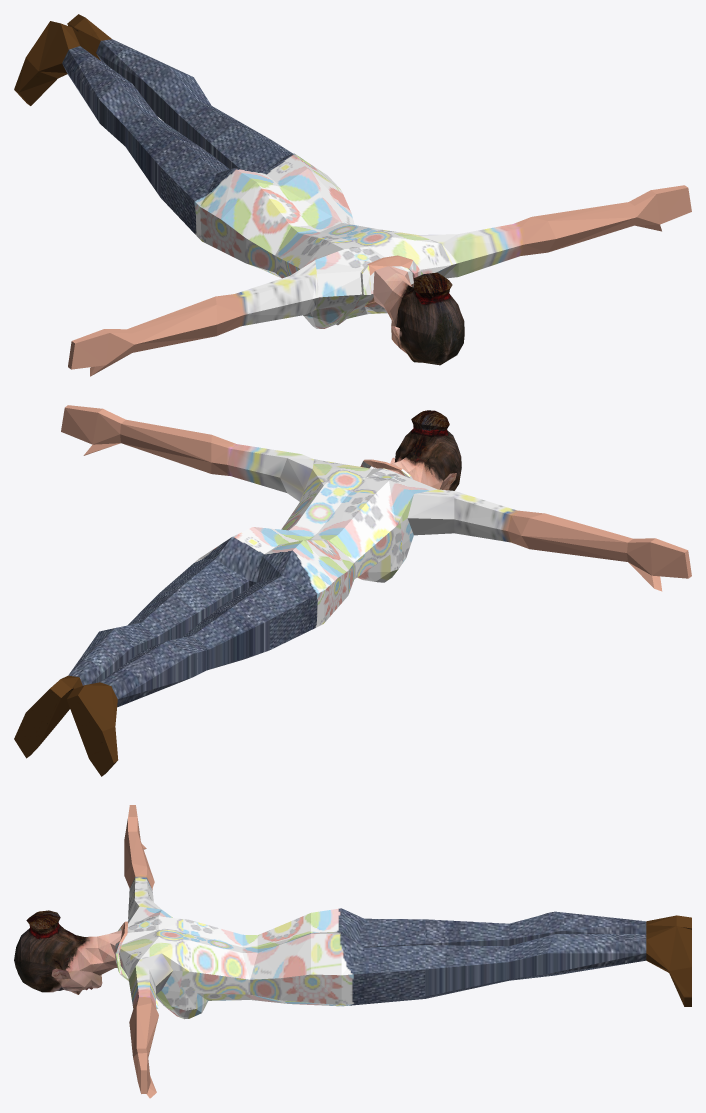
The model's file is bumpywoman_wtf.obj.
3 renders of one model, top to bottom at view 1: azimuth 30°, elevation 25°; view 2: azimuth 150°, elevation 25°; view 3: azimuth 270°, elevation 25°, orthographic. The views are drawn at different scales.
Visible parts, largest first — view 1: group2, group3, group1; view 2: group2, group3; view 3: group2, group3.
Boxes of the visible parts, x1,y1,x2,y2 form: group2: [14, 14, 691, 376]; group3: [373, 266, 464, 365]; group1: [336, 255, 422, 325]; group2: [14, 405, 691, 776]; group3: [373, 410, 461, 490]; group2: [119, 805, 691, 1098]; group3: [14, 910, 121, 994].
Size of the model in its own units: 619 by 97.19 by 660.
